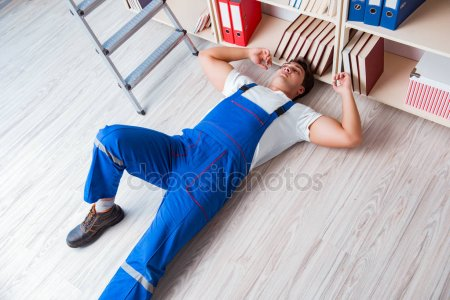collapsed: (55, 18, 440, 300)
